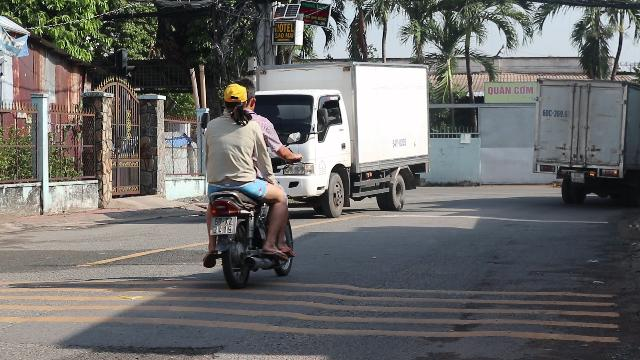licenseplate: (210, 217, 236, 233)
motorcyclist: (195, 79, 298, 285)
nohelmet: (222, 82, 248, 122)
